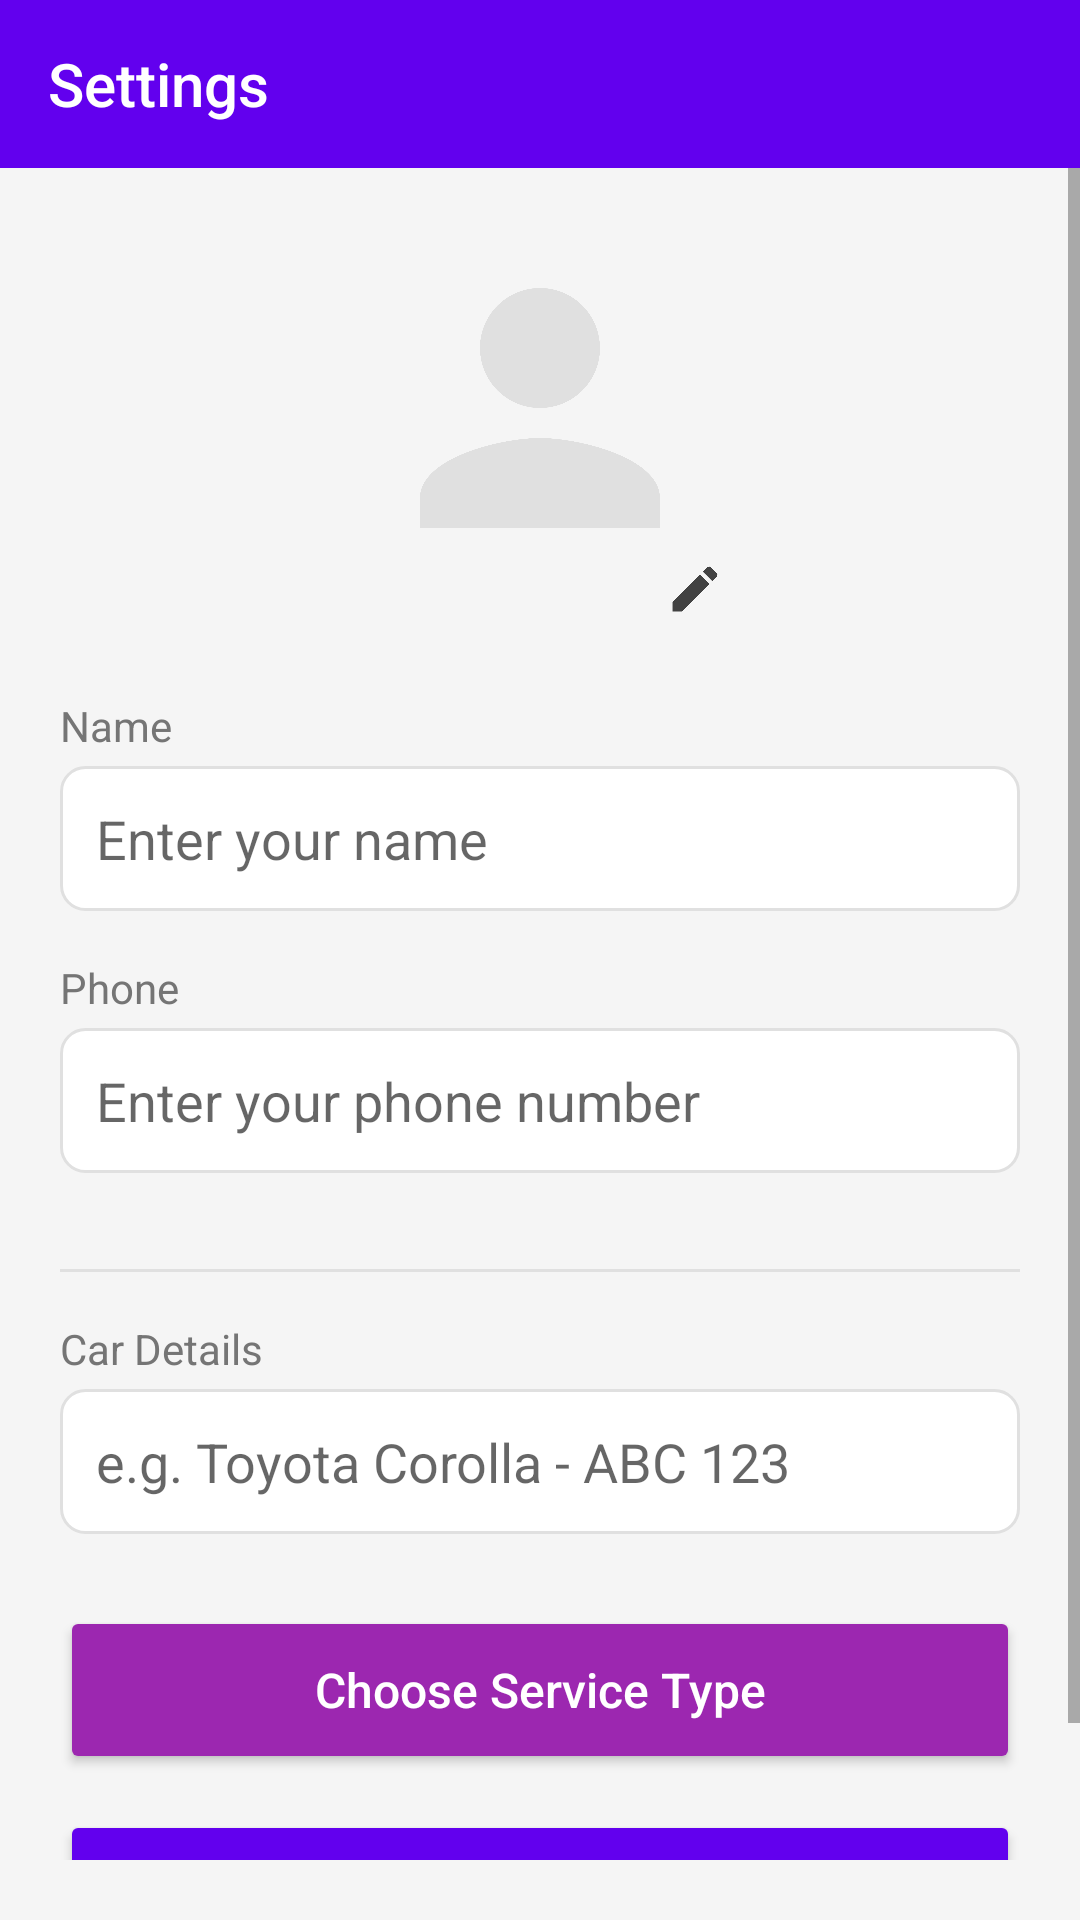

Icon click points for this 1080w x 1920h phone screenshot, format [x,y]:
Edit Profile: [695,589]
